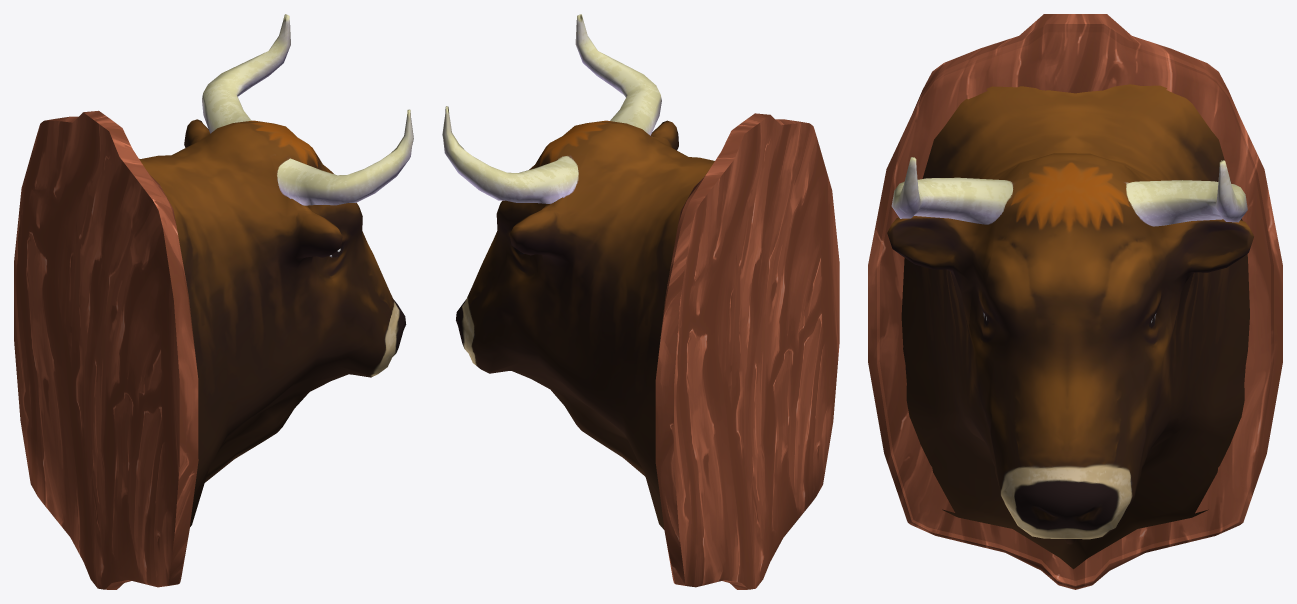
The model's file is ira toro.fbx.
3 renders of one model, left to right at view 1: azimuth 30°, elevation 25°; view 2: azimuth 150°, elevation 25°; view 3: azimuth 270°, elevation 25°, orthographic. The views are drawn at different scales.
Parts seen in each view (by area): view 1: bulls_head_Bull2_0; view 2: bulls_head_Bull2_0; view 3: bulls_head_Bull2_0.
Part boxes in pixels (x1,y1,x2,y2): bulls_head_Bull2_0: (14,14,413,589); bulls_head_Bull2_0: (442,14,839,589); bulls_head_Bull2_0: (868,14,1282,589).
Bounding box in the file's own units: 1001 × 1500 × 991.
Materials: 2 (2 with a texture image).
